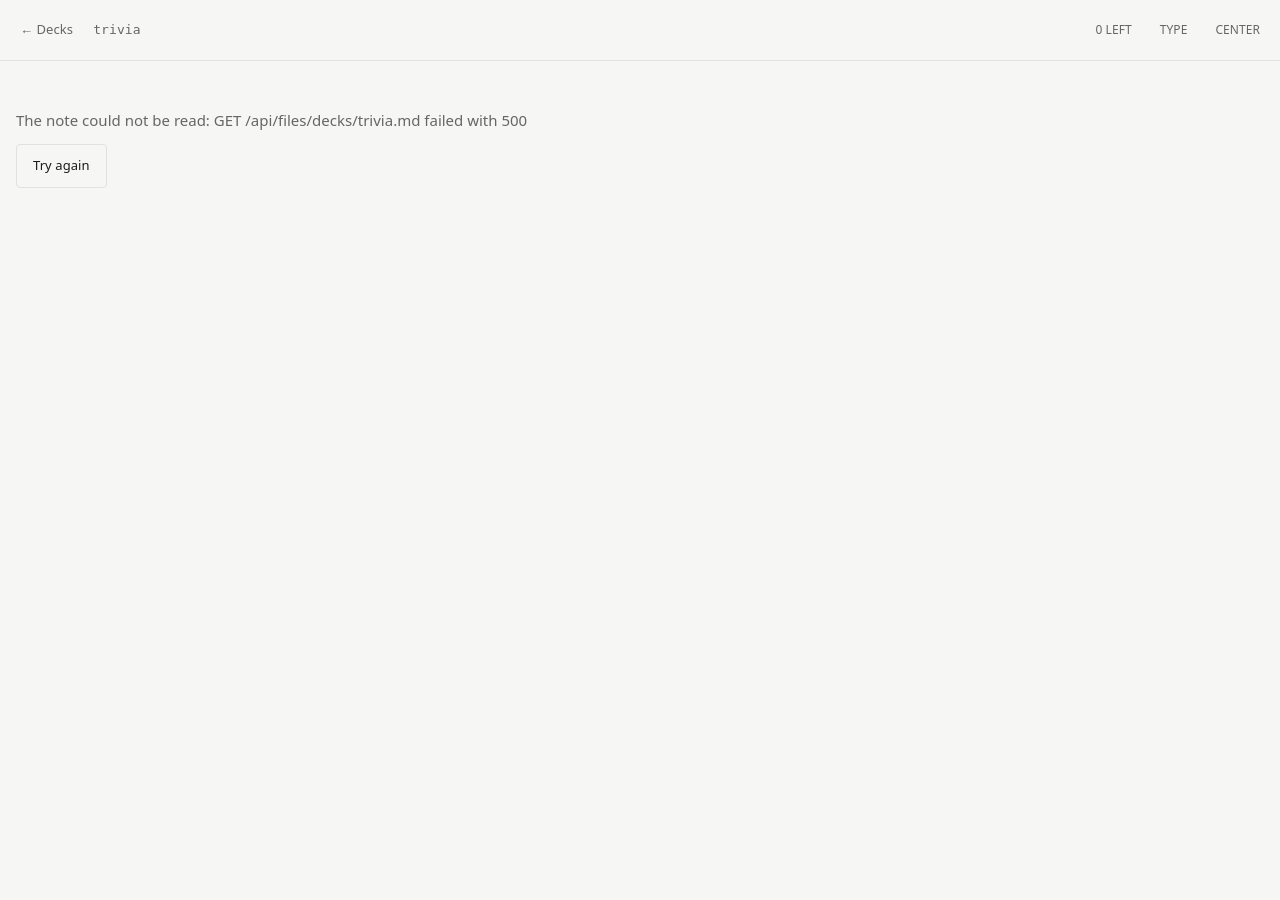
a sitting whose deck note read failed for good can try again (#1163) › #1163 A3 a sitting whose deck read failed for good reads it again on Try again and asks the card, with no alert
Expected: the message "The note could not be read: GET /api/files/decks/trivia.md failed with 500" is shown, [16,110,527,130]
Click the button "Try again": (61, 166) [16,144,107,188]
Wait 100 ms
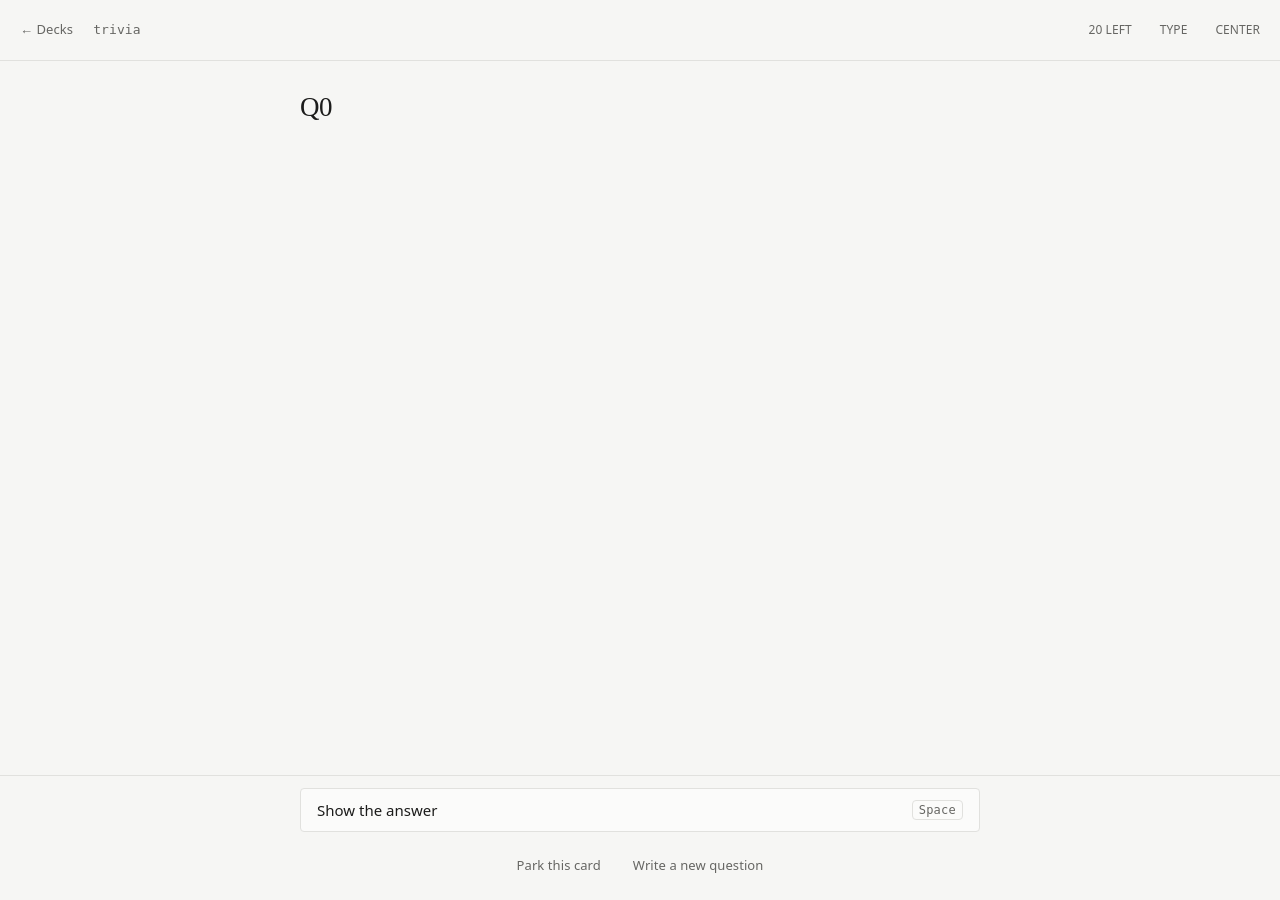
Result: the element with test id "review-card" is shown at [300,92,332,122]
Result: the message "The note could not be read: GET /api/files/decks/trivia.md failed with 500" is gone
Result: the button "Try again" is gone
